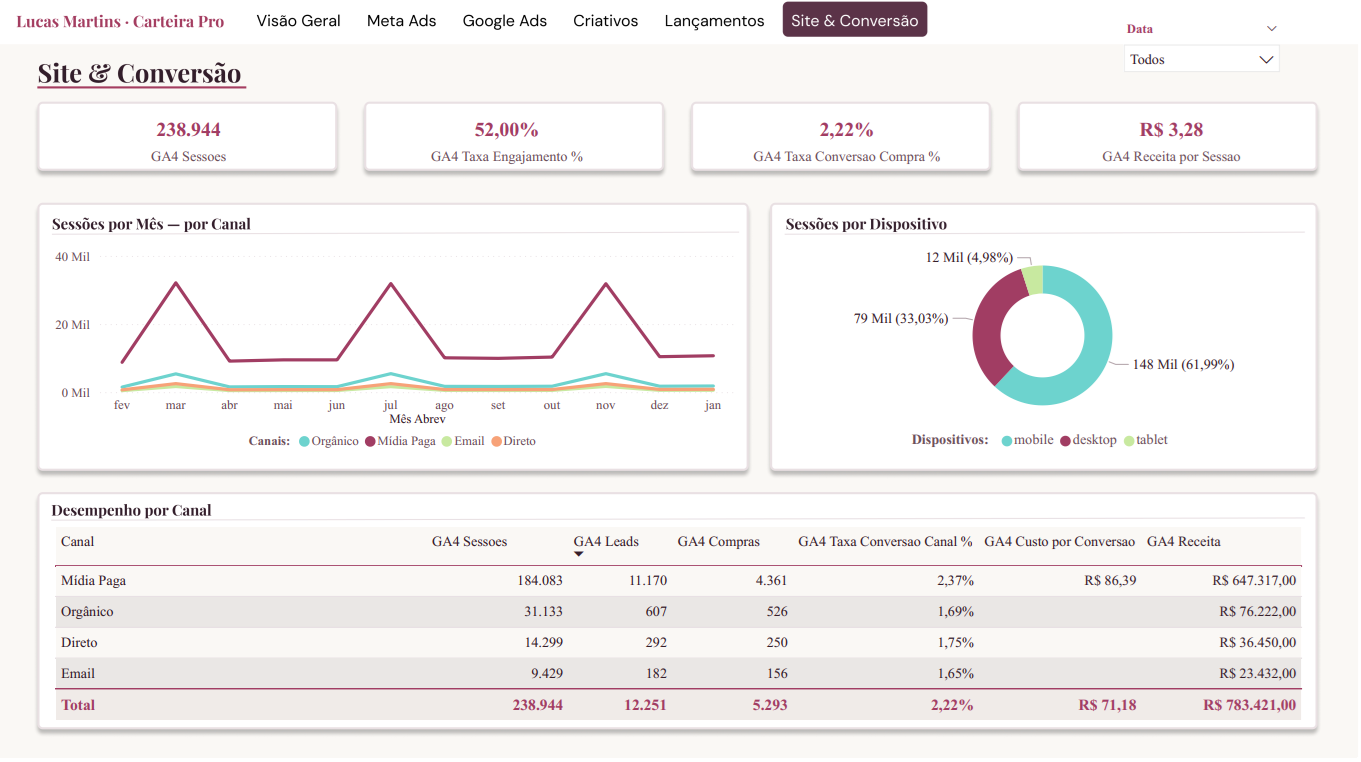

The dashboard page shown, as its layout file describes it:
{"tool":"powerbi","page":{"name":"Site e Conversão","canvas":[1280,720],"ordinal":5},"visuals":[{"type":"card","fields":{"Values":["Medidas.GA4 Sessoes"]},"box":[60,100,240,72.9],"z":0},{"type":"card","fields":{"Values":["Medidas.GA4 Taxa Engajamento %"]},"box":[358.6,100,241.4,72.9],"z":1000},{"type":"card","fields":{"Values":["Medidas.GA4 Taxa Conversao Compra %"]},"box":[678.6,100,241.4,72.9],"z":2000},{"type":"card","fields":{"Values":["Medidas.GA4 Receita por Sessao"]},"box":[984.3,100,241.4,72.9],"z":3000},{"type":"lineChart","title":"Sessões por Mês","fields":{"Category":["Calendário.Mês Abrev"],"Y":["Medidas.GA4 Sessoes"],"Series":["Canais.Canal"]},"box":[48.6,232.9,650,207.1],"z":4000},{"type":"donutChart","title":"Sessões por Dispositivos","fields":{"Category":["ga4_data.device_category"],"Y":["Medidas.GA4 Sessoes"]},"box":[741.4,232.9,484.3,207.1],"z":5000},{"type":"tableEx","fields":{"Values":["Canais.Canal","Medidas.GA4 Sessoes","Medidas.GA4 Leads","Medidas.GA4 Compras","Medidas.GA4 Taxa Conversao Canal %","Medidas.GA4 Custo por Conversao","Medidas.GA4 Receita"]},"box":[48.6,497.1,1187.1,195.7],"z":6000},{"type":"actionButton","box":[241.7,4.9,87.1,40.5],"z":7000},{"type":"actionButton","box":[328.8,4.9,99.4,40.5],"z":8000},{"type":"actionButton","box":[428.2,4.9,99.4,40.5],"z":9000},{"type":"actionButton","box":[528.8,4.9,84.7,40.5],"z":10000},{"type":"actionButton","box":[614.7,6.1,116.6,40.5],"z":11000},{"type":"slicer","fields":{"Values":["Calendário.Date.Variation.Hierarquia de datas.Ano","Calendário.Date.Variation.Hierarquia de datas.Mês"]},"box":[1050.3,20.9,166.9,55.2],"z":12000}]}

Visuals, with their boxes in screenshot pixels (x1, y1, x2, y2), scaled from the page's 1280x720 canvas onto the 1361x762 screenshot:
card - Medidas.GA4 Sessoes: Rect(64, 106, 319, 183)
card - Medidas.GA4 Taxa Engajamento %: Rect(381, 106, 638, 183)
card - Medidas.GA4 Taxa Conversao Compra %: Rect(722, 106, 978, 183)
card - Medidas.GA4 Receita por Sessao: Rect(1047, 106, 1303, 183)
"Sessões por Mês" lineChart: Rect(52, 246, 743, 466)
"Sessões por Dispositivos" donutChart: Rect(788, 246, 1303, 466)
tableEx - Canais.Canal x Medidas.GA4 Sessoes: Rect(52, 526, 1314, 733)
actionButton: Rect(257, 5, 350, 48)
actionButton: Rect(350, 5, 455, 48)
actionButton: Rect(455, 5, 561, 48)
actionButton: Rect(562, 5, 652, 48)
actionButton: Rect(654, 6, 778, 49)
slicer - Calendário.Date.Variation.Hierarquia de datas.Ano x Calendário.Date.Variation.Hierarquia de datas.Mês: Rect(1117, 22, 1294, 81)
